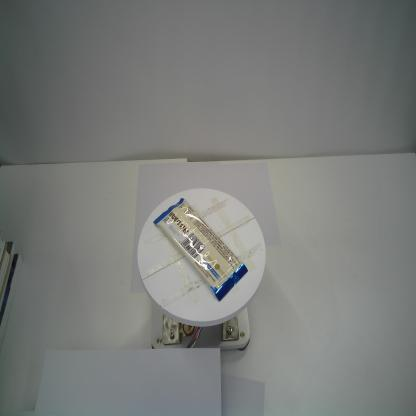Chocolate: (152, 196, 250, 304)
